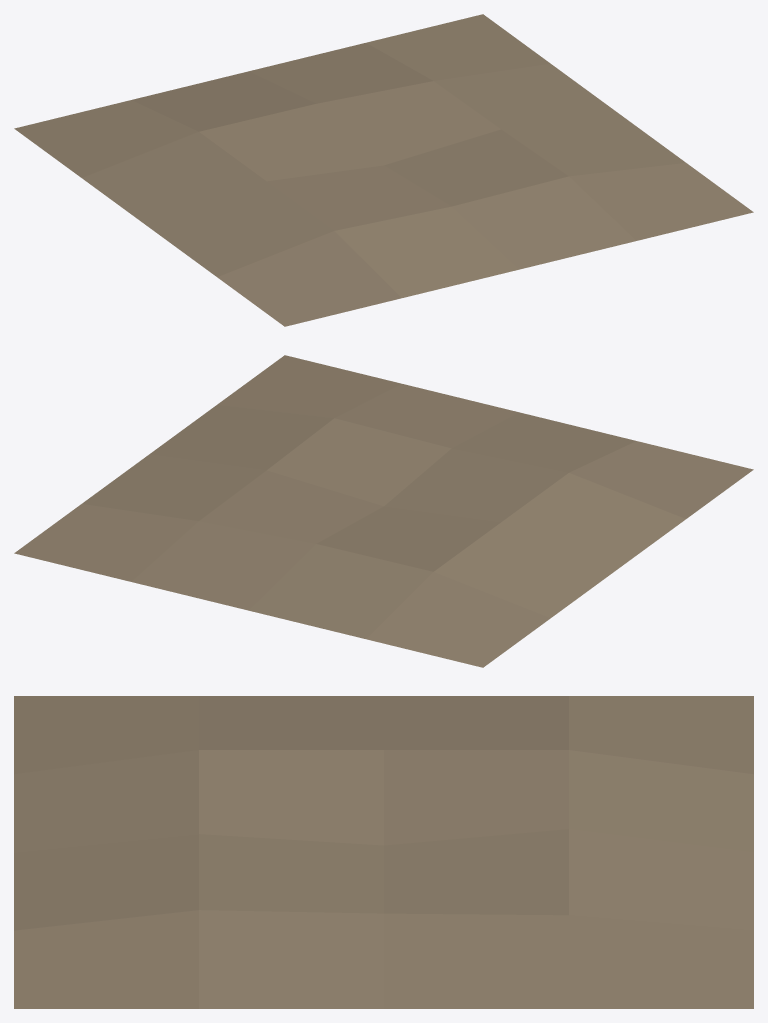
File: Tile_10_Mud_Wet.glb
3 renders of one model, top to bottom at view 1: azimuth 30°, elevation 25°; view 2: azimuth 150°, elevation 25°; view 3: azimuth 270°, elevation 25°, orthographic. The views are drawn at different scales.
Parts seen in each view (by area): view 1: Tile_Mud_Wet; view 2: Tile_Mud_Wet; view 3: Tile_Mud_Wet.
Boxes of the visible parts, <box> form: Tile_Mud_Wet: <box>14,14,753,326</box>; Tile_Mud_Wet: <box>14,355,753,667</box>; Tile_Mud_Wet: <box>14,696,753,1008</box>.
Bounding box in the file's own units: 0.2 × 0.00725 × 0.2.
